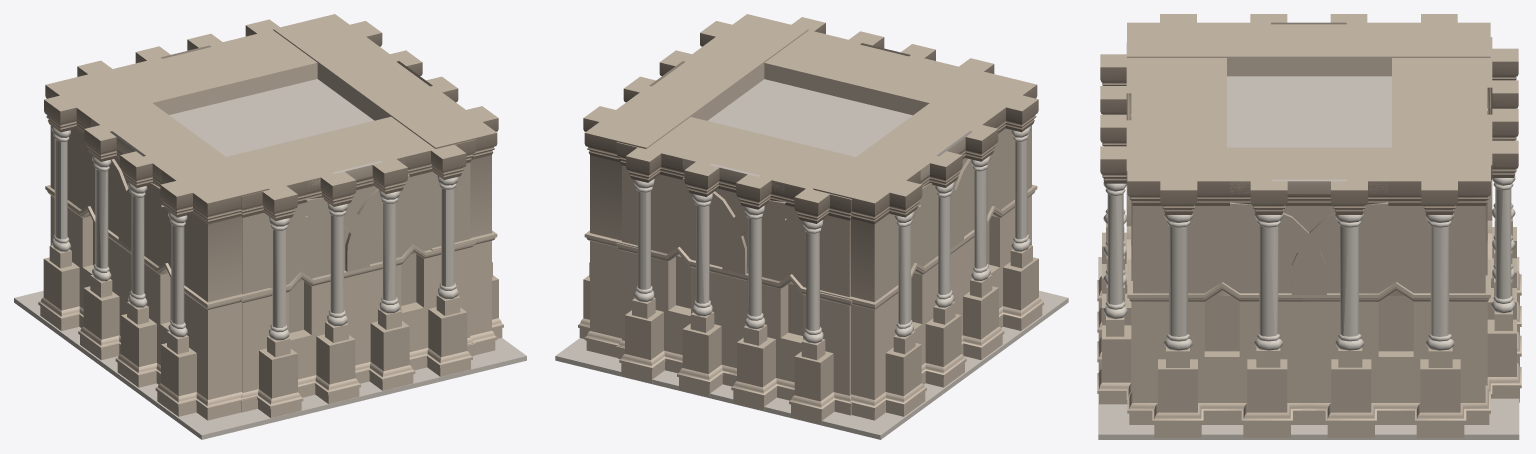
Rendered from wall-3.fbx.
3 renders of one model, left to right at view 1: azimuth 30°, elevation 25°; view 2: azimuth 150°, elevation 25°; view 3: azimuth 270°, elevation 25°, orthographic. The views are drawn at different scales.
Parts seen in each view (by area): view 1: Mesh01.009; view 2: Mesh01.009; view 3: Mesh01.009.
Boxes of the visible parts, x1,y1,x2,y2 form: Mesh01.009: (14, 14, 526, 439); Mesh01.009: (555, 14, 1068, 439); Mesh01.009: (1097, 14, 1521, 439).
Size of the model in its own units: 374 by 244 by 376.
